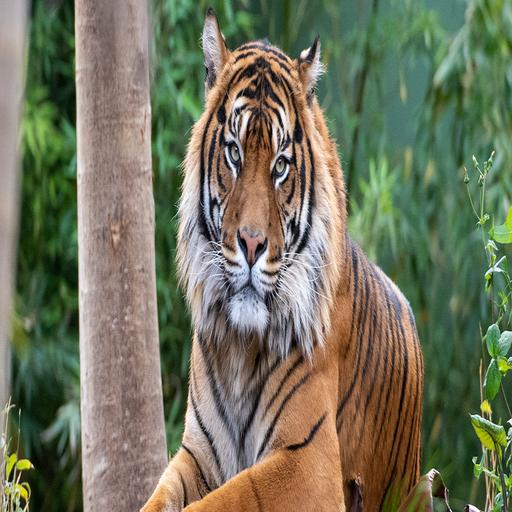Tiger: (101, 8, 452, 512)
